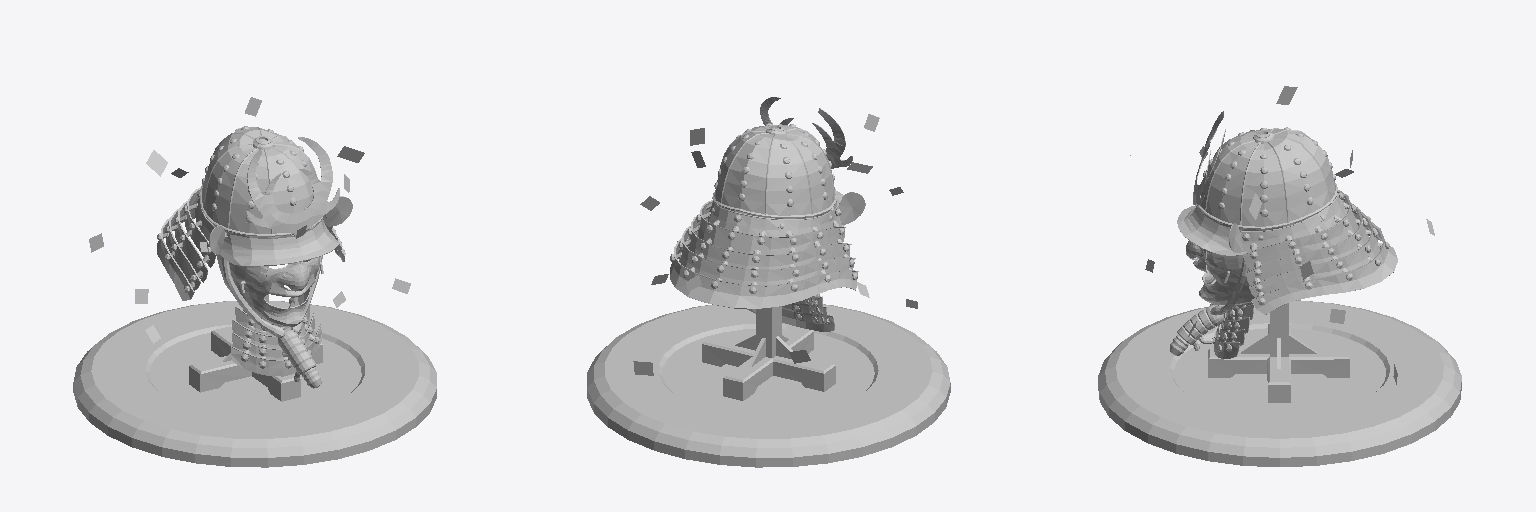
The picture shows the model from 3 angles: view 1: azimuth 30°, elevation 25°; view 2: azimuth 150°, elevation 25°; view 3: azimuth 270°, elevation 25°; orthographic projection.
Visible parts, largest first — view 1: M_LO_Pedestal_Normals_Pedestal_0; view 2: M_LO_Pedestal_Normals_Pedestal_0; view 3: M_LO_Pedestal_Normals_Pedestal_0.
Part boxes in pixels (left/top/right/bottom): M_LO_Pedestal_Normals_Pedestal_0: left=73, top=97, right=436, bottom=467; M_LO_Pedestal_Normals_Pedestal_0: left=587, top=97, right=950, bottom=467; M_LO_Pedestal_Normals_Pedestal_0: left=1098, top=86, right=1461, bottom=466.
Size of the model in its own units: 269 by 220 by 270.